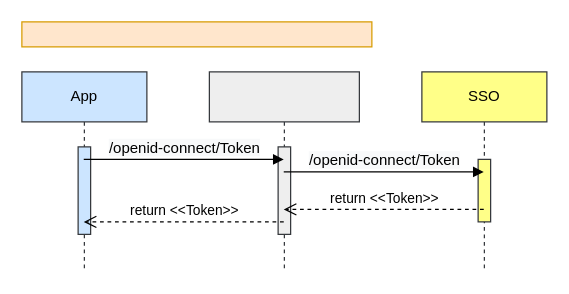
This 569x294 diagram has some shape labels left out. Here are the shapes that lost their labels. From the top down, the box of each, then its label:
(21, 21, 372, 47): /auth/realm-api-dev/protocol/openid-connect/Token
(208, 71, 359, 272): CiberSecurityToken
